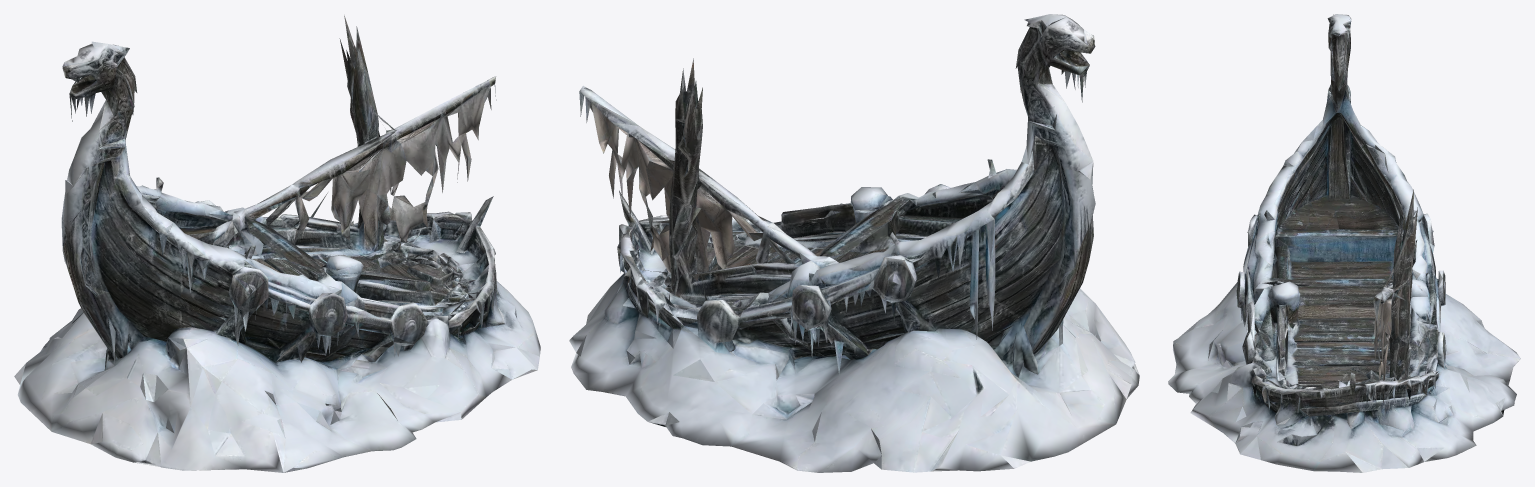
The picture shows the model from 3 angles, left to right: view 1: azimuth 30°, elevation 25°; view 2: azimuth 150°, elevation 25°; view 3: azimuth 270°, elevation 25°; orthographic projection. The views are drawn at different scales.
Parts seen in each view (by area): view 1: Mesh_0.001; view 2: Mesh_0.001; view 3: Mesh_0.001.
Part boxes in pixels (x1=…): Mesh_0.001: x1=14, y1=15, x2=540, y2=472; Mesh_0.001: x1=569, y1=14, x2=1139, y2=472; Mesh_0.001: x1=1168, y1=14, x2=1520, y2=472.
Bounding box in the file's own units: 6.68 × 5 × 5.44.
1 material, 1 textured.
